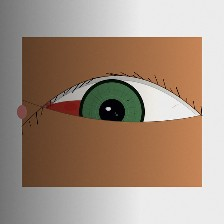hemorrhage_spot: (30, 72, 130, 152)
